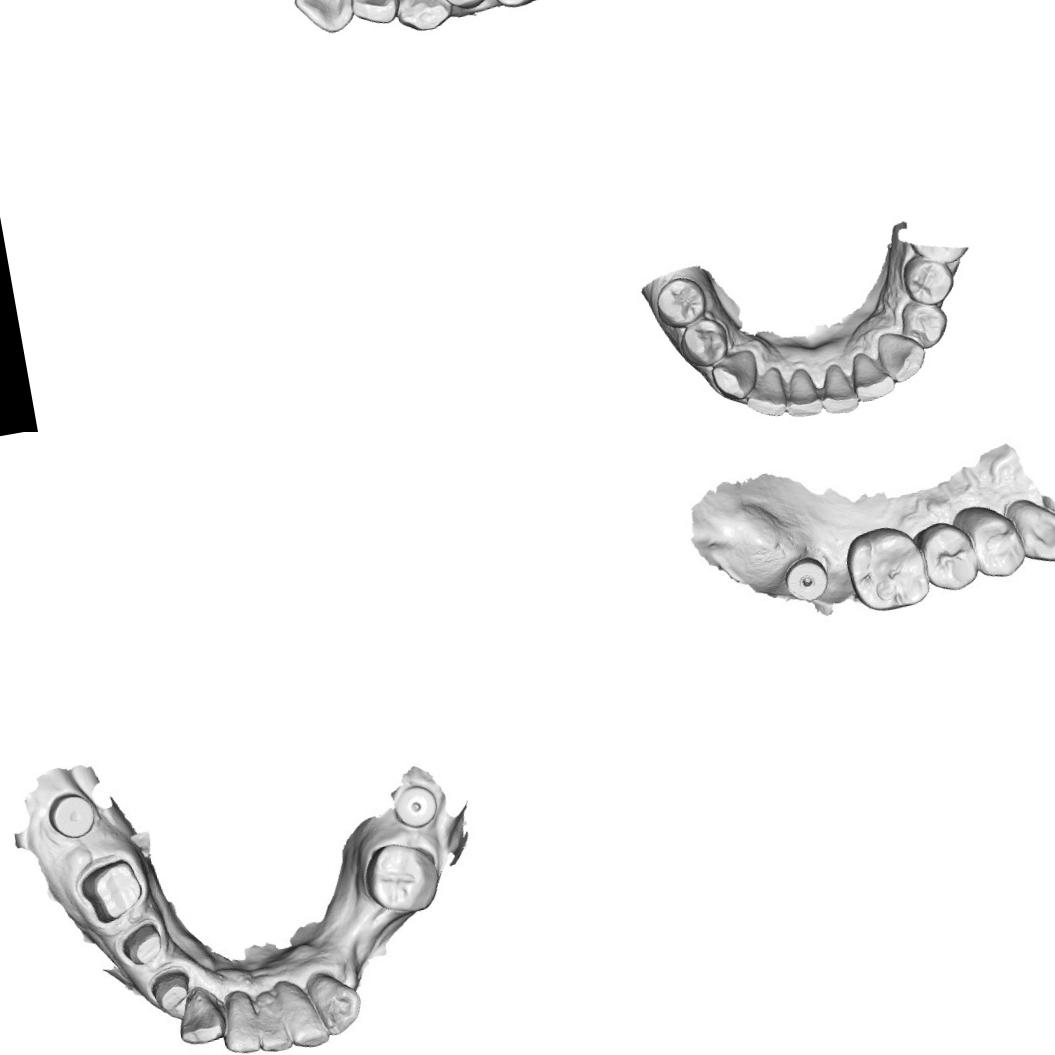canine: (1000, 486, 1055, 569), (170, 980, 232, 1053), (309, 962, 364, 1038), (872, 324, 931, 387), (706, 344, 763, 405), (389, 0, 456, 39)
crown: (78, 852, 146, 922), (114, 917, 170, 975), (145, 962, 198, 1020)
implant: (42, 786, 100, 846), (780, 550, 833, 606), (387, 780, 440, 830)
incisor: (280, 974, 328, 1052), (288, 0, 367, 40), (738, 363, 791, 422), (812, 357, 862, 418), (252, 981, 292, 1055), (846, 346, 897, 404), (219, 986, 262, 1050), (778, 362, 824, 420), (345, 0, 403, 30)
molar: (840, 519, 933, 618), (356, 832, 444, 919)
premolar: (958, 498, 1026, 584), (914, 515, 982, 596), (897, 248, 958, 310), (649, 271, 710, 332), (673, 313, 733, 372), (896, 295, 953, 353)
